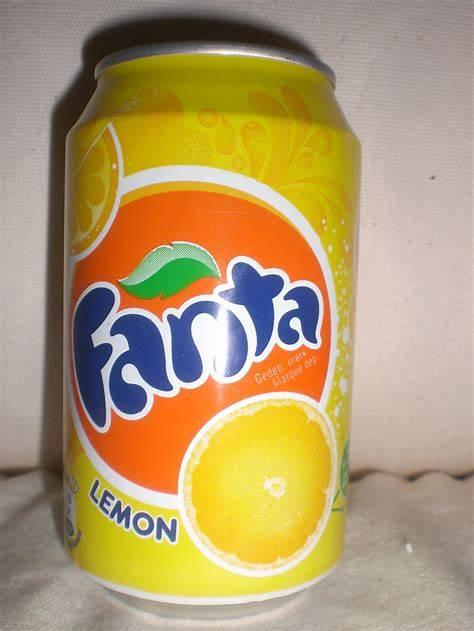metal: (64, 42, 361, 606)
